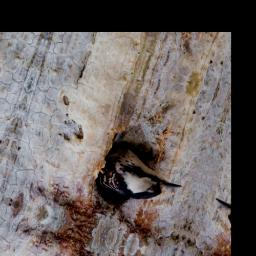Woodpecker: (95, 141, 188, 217)
